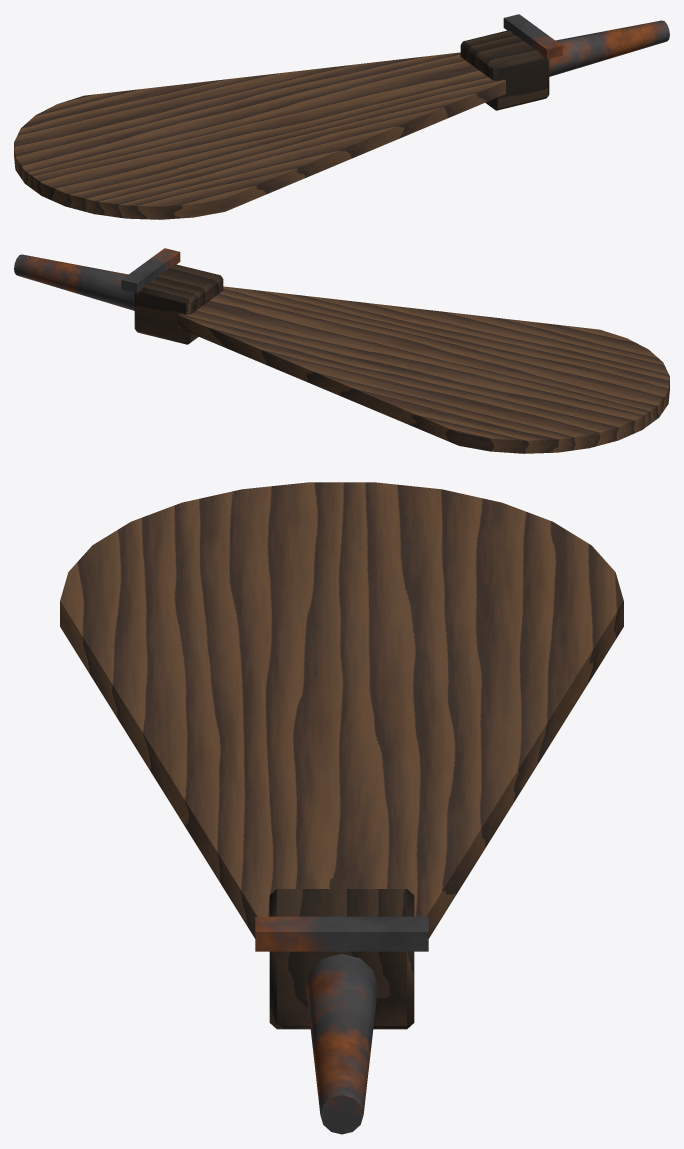
The model's file is SM_Bellows_Bottom.glb.
The picture shows the model from 3 angles, top to bottom: view 1: azimuth 30°, elevation 25°; view 2: azimuth 150°, elevation 25°; view 3: azimuth 270°, elevation 25°; orthographic projection. The views are drawn at different scales.
Parts seen in each view (by area): view 1: SM_Bellows_Bottom; view 2: SM_Bellows_Bottom; view 3: SM_Bellows_Bottom.
Boxes of the visible parts, bbox=[...] form: SM_Bellows_Bottom: bbox=[14, 14, 669, 219]; SM_Bellows_Bottom: bbox=[14, 248, 669, 453]; SM_Bellows_Bottom: bbox=[60, 482, 623, 1134].
Size of the model in its own units: 2.02 by 0.165 by 0.78.
Materials: 1 (1 with a texture image).
